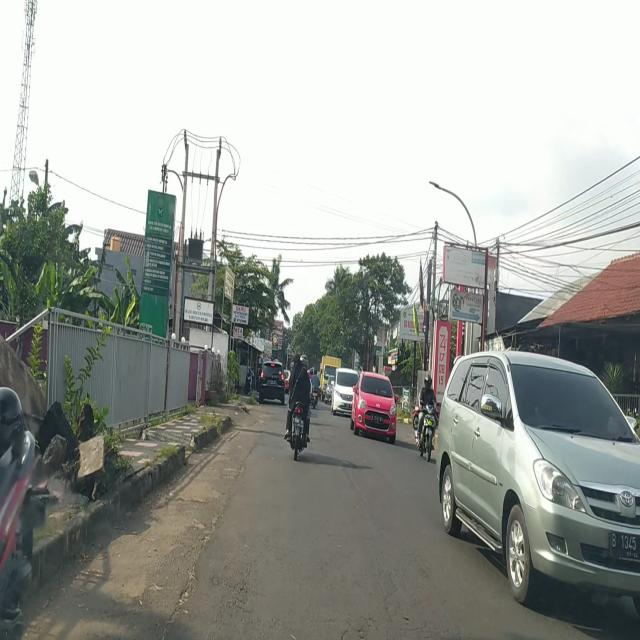Drain Hole: (328, 559, 446, 640)
